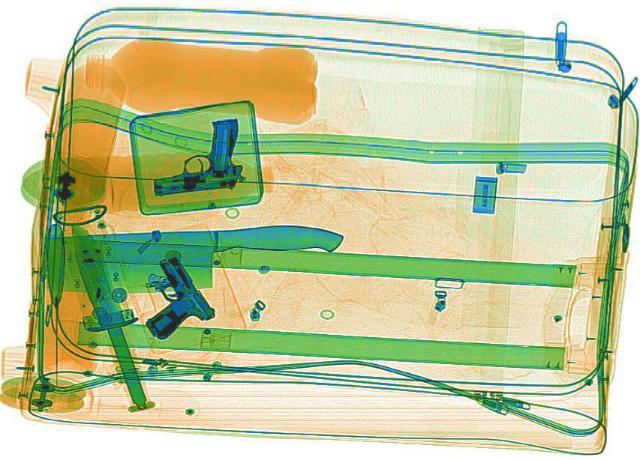Gun: (106, 253, 222, 339), (135, 115, 253, 195)
Knife: (36, 220, 348, 296), (59, 221, 154, 406)
